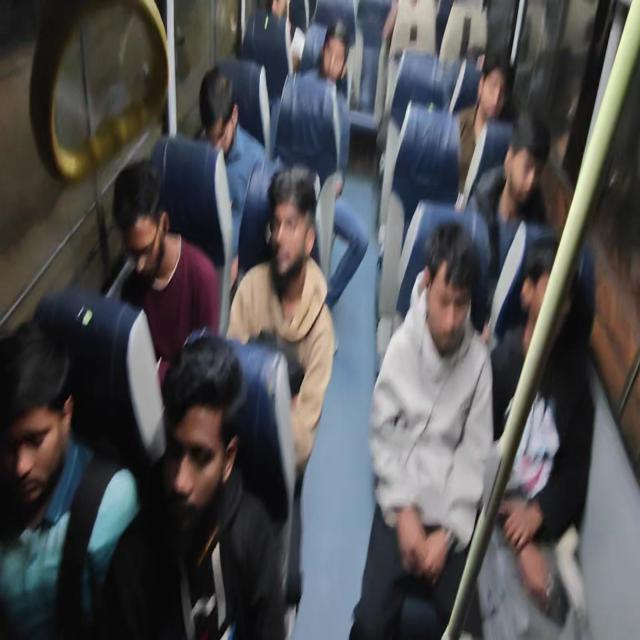person: (164, 323, 270, 595), (0, 304, 83, 562), (92, 160, 200, 328), (268, 172, 357, 356), (512, 251, 599, 357), (409, 237, 468, 369), (196, 67, 261, 172), (495, 126, 544, 210), (265, 0, 307, 66), (310, 18, 348, 86), (473, 58, 495, 113)
